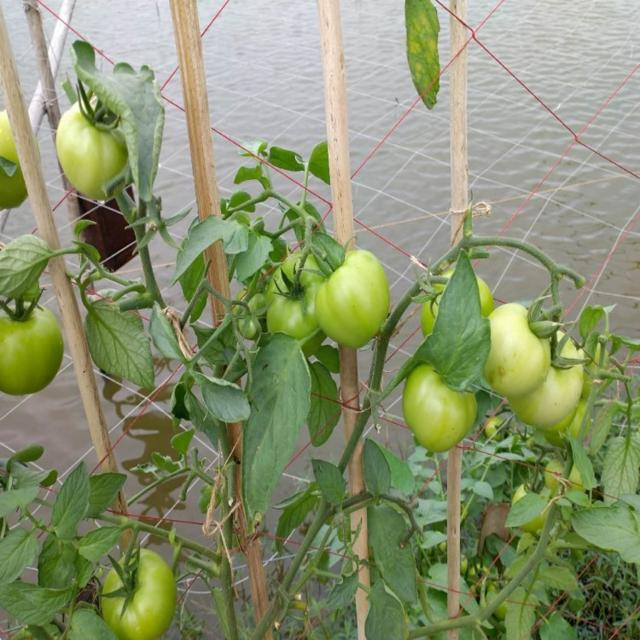tomato: (318, 252, 390, 345), (105, 550, 178, 640), (57, 100, 122, 197), (405, 370, 477, 451), (1, 306, 64, 396), (488, 302, 547, 395), (524, 338, 583, 426), (268, 259, 320, 336), (1, 114, 24, 207), (482, 414, 508, 442)
